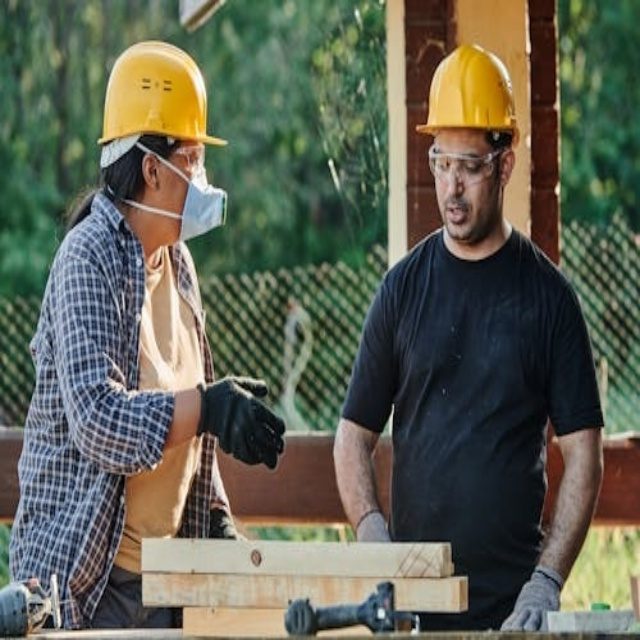Gafas: (422, 135, 513, 183), (151, 136, 212, 173)
Guantes: (196, 376, 287, 467), (497, 567, 564, 633), (355, 508, 392, 543), (208, 506, 239, 539)
Mascara: (171, 160, 226, 242)
Sin_mascara: (439, 200, 472, 227)
